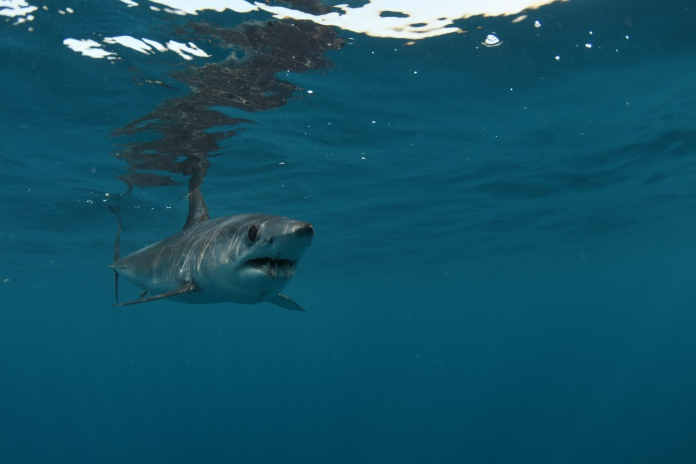Mako: (94, 177, 322, 324)
